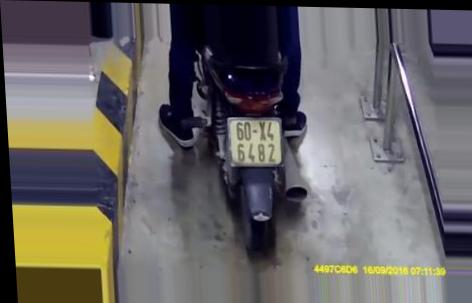License_Plate: (222, 114, 289, 171)
